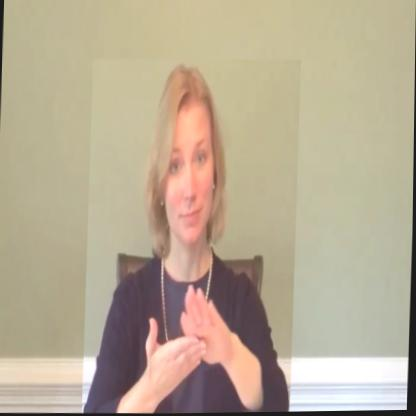NiceToMeetYou: (82, 56, 300, 415)
